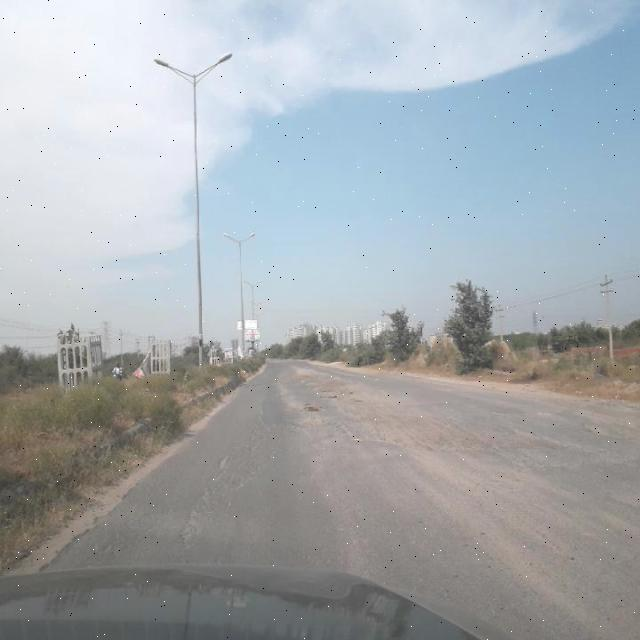D00: (175, 391, 273, 551)
D40: (293, 398, 571, 483), (580, 407, 640, 460), (276, 370, 368, 401)
